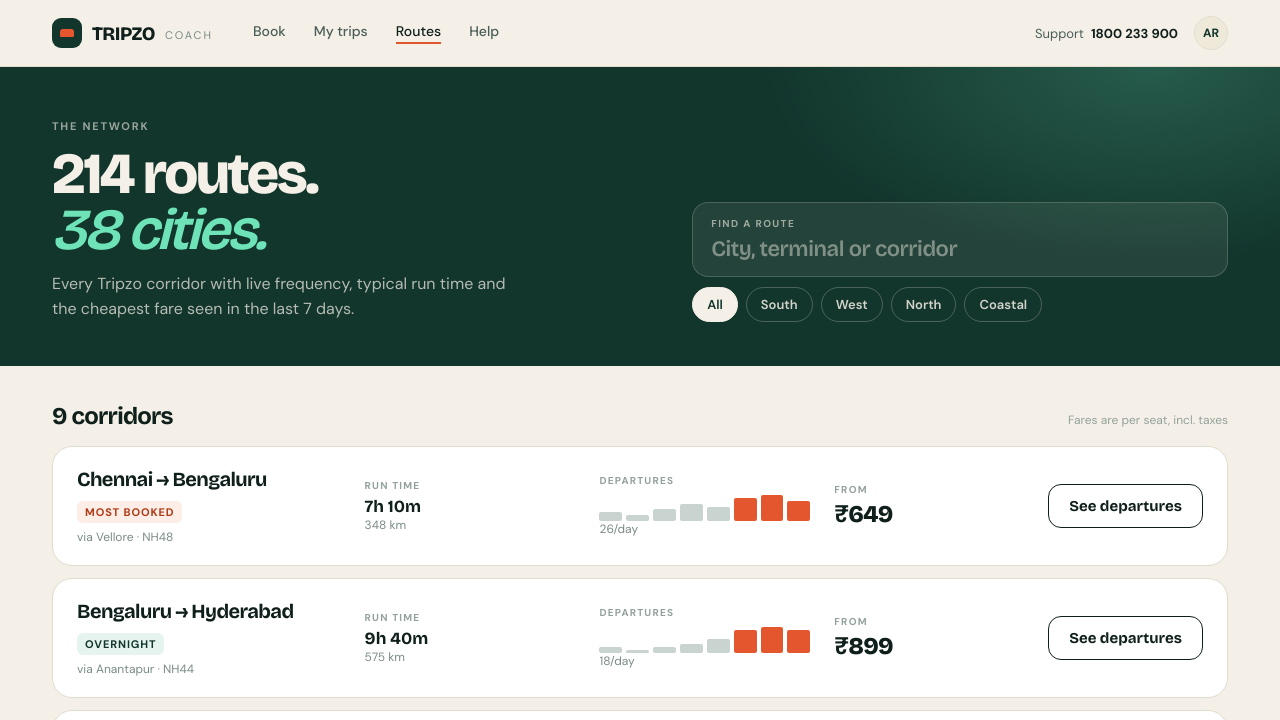
it: "See departures" carries the corridor into the search bar
The image size is (1280, 720).
Click the link "Routes". click: coordinates (418, 33)
box: 396,22 -> 441,44
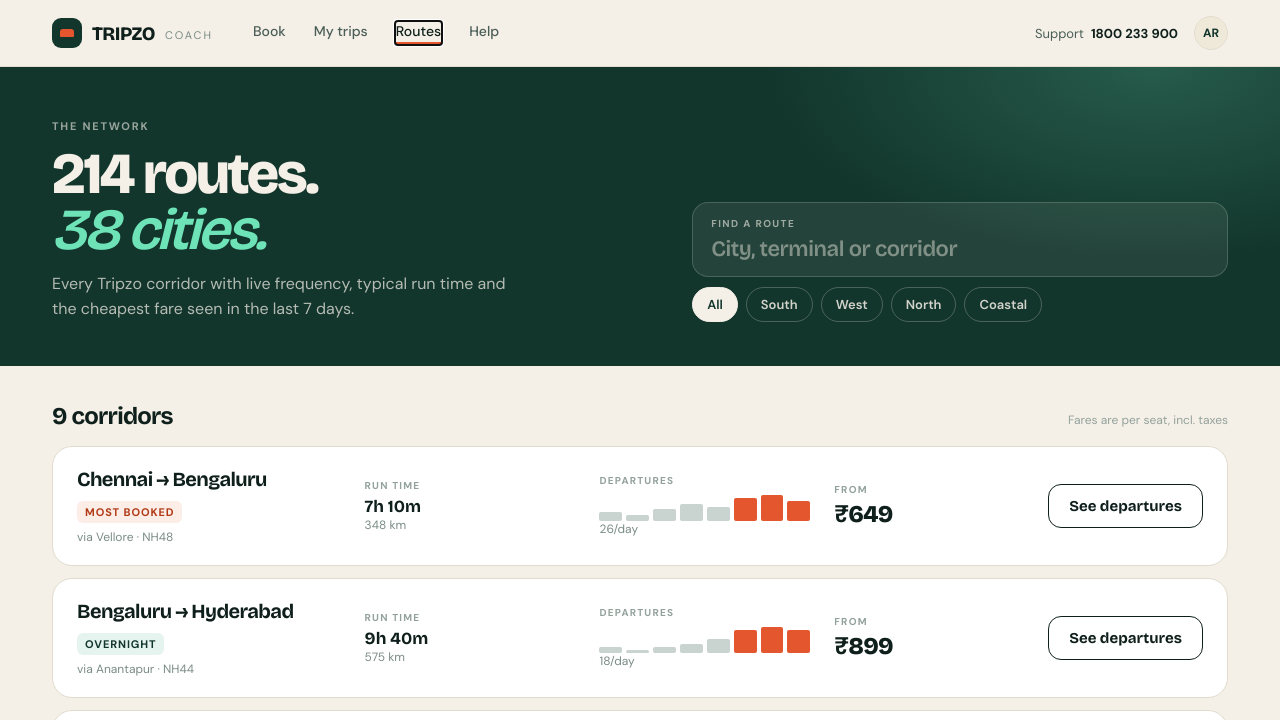
Click the button "West". click: coordinates (852, 304)
box: 821,287 -> 883,322
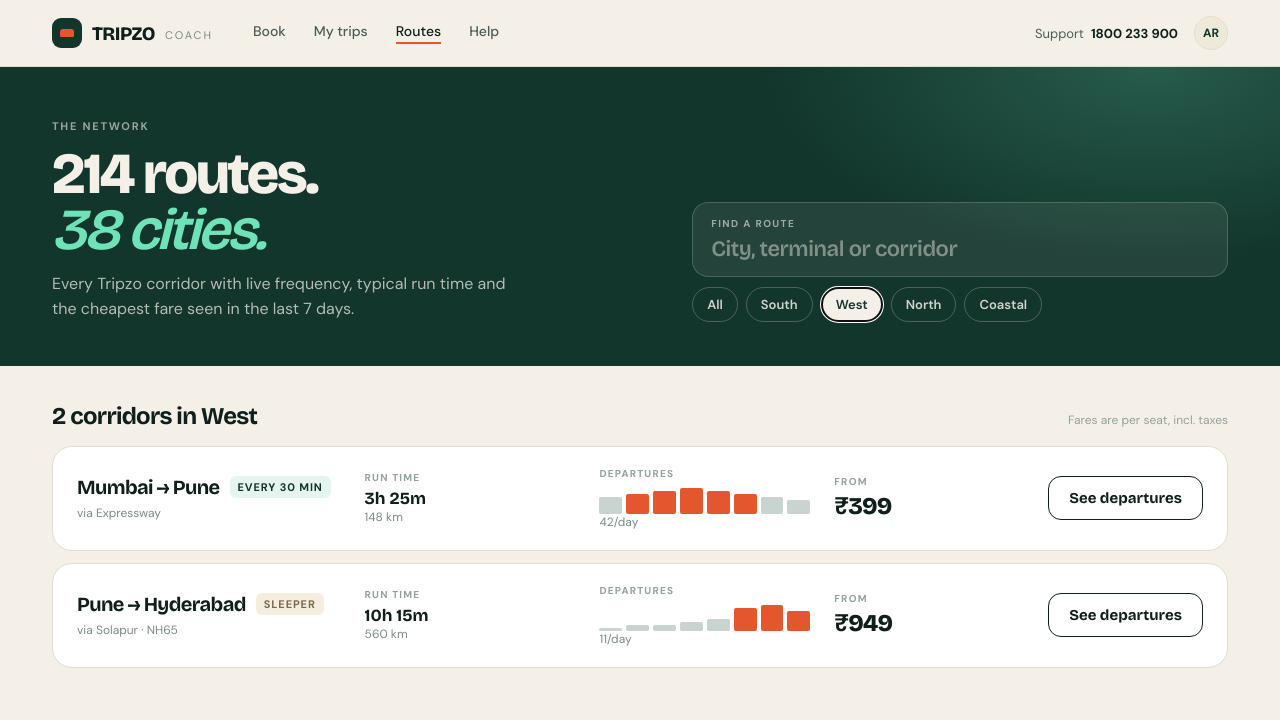
Click the button "See departures" next to "₹399". click: coordinates (1126, 498)
box: 1048,476 -> 1203,520
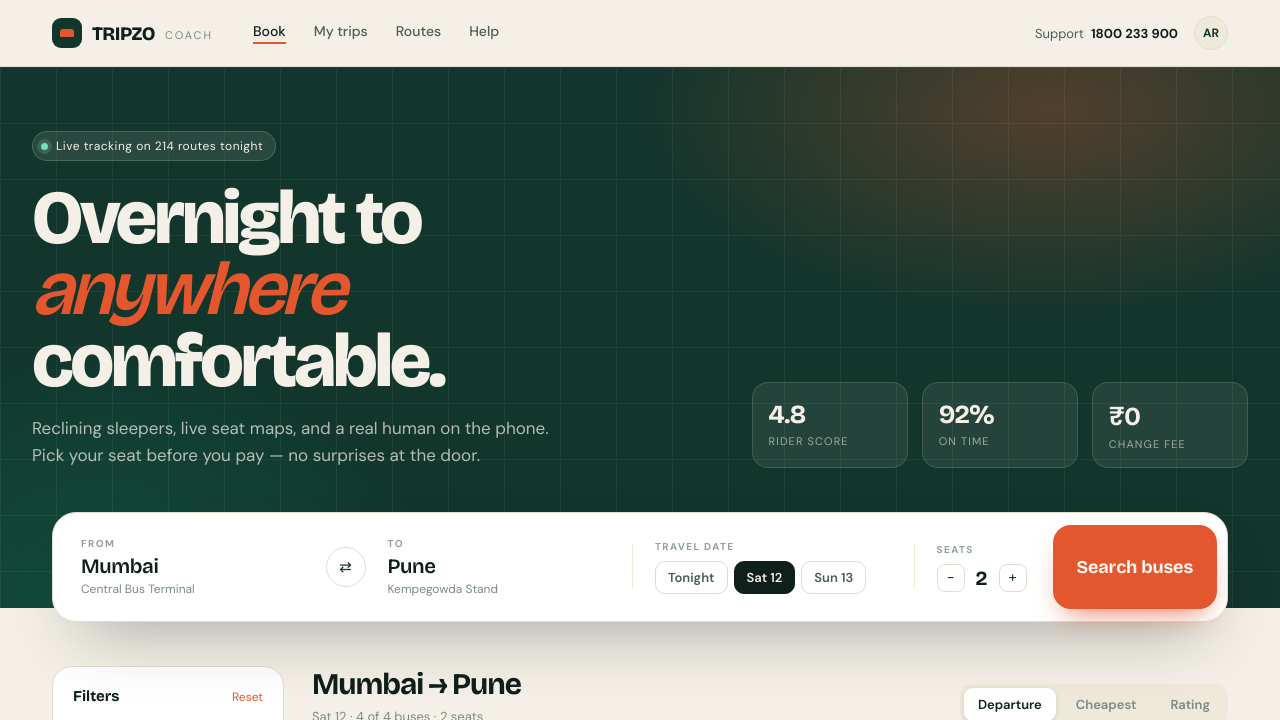
Expected: the field showing "Mumbai" is shown, 81,554 -> 304,579
Expected: the field showing "Pune" is shown, 388,554 -> 610,579
